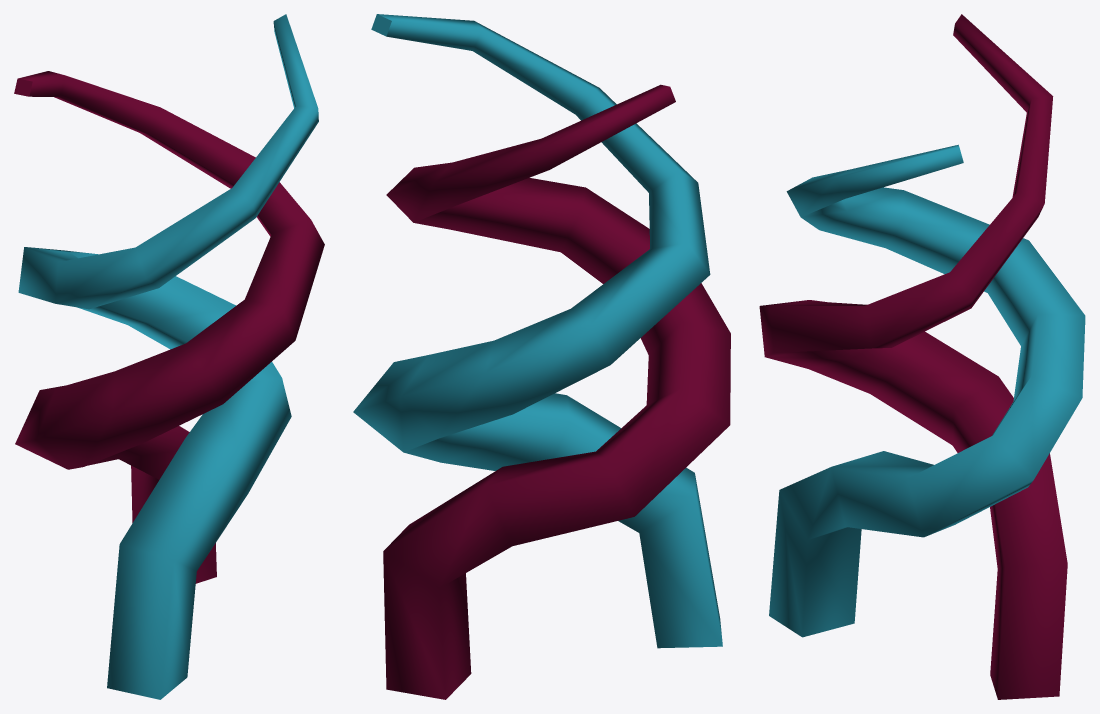
The model's file is plant_2.glb.
3 renders of one model, left to right at view 1: azimuth 30°, elevation 25°; view 2: azimuth 150°, elevation 25°; view 3: azimuth 270°, elevation 25°, orthographic. The views are drawn at different scales.
Parts seen in each view (by area): view 1: Plant_2; view 2: Plant_2; view 3: Plant_2.
Boxes of the visible parts, <box> form: Plant_2: <box>14,14,324,699</box>; Plant_2: <box>353,14,730,699</box>; Plant_2: <box>759,14,1085,699</box>.
Bounding box in the file's own units: 1.06 × 1.97 × 1.01.
1 material, 1 textured.
